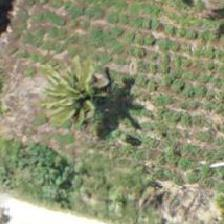coconut_tree: (46, 53, 136, 143)
